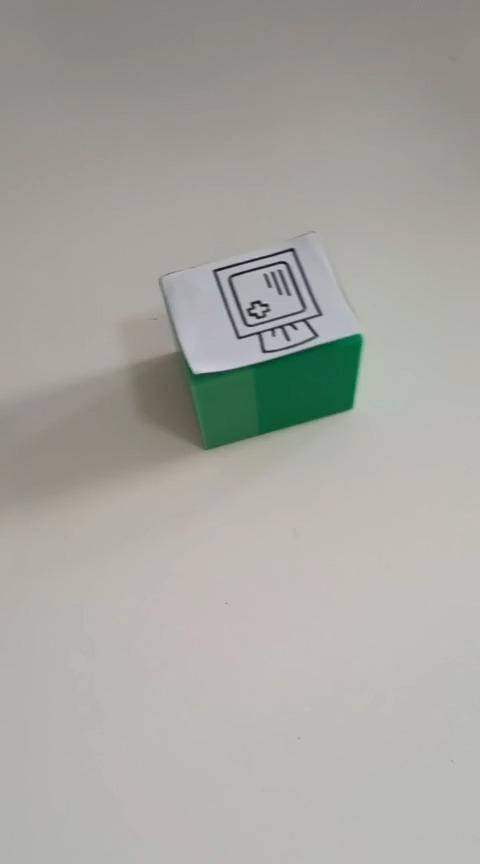Gauze: (157, 229, 364, 450)
